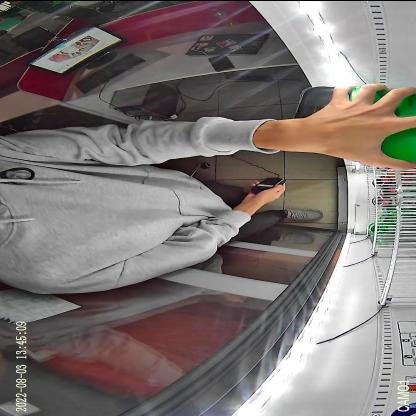green: (292, 85, 416, 162)
